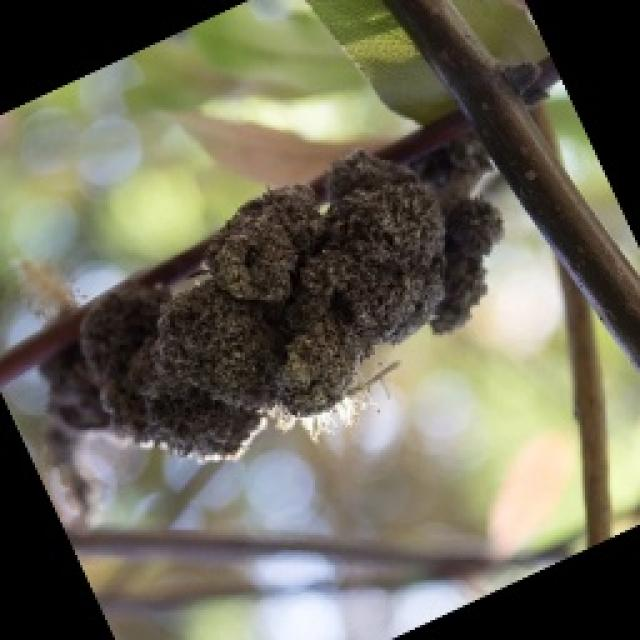Black_knot: (68, 140, 502, 460)
